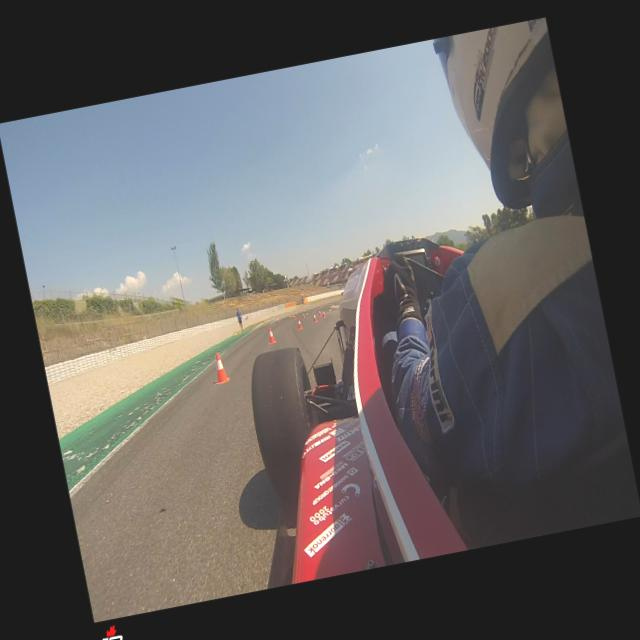orange_cone: (210, 352, 230, 385), (266, 327, 276, 344), (296, 318, 304, 330), (312, 312, 318, 322), (322, 310, 326, 318), (318, 310, 322, 316), (302, 312, 306, 318)
yellow_cone: (328, 306, 332, 312), (306, 311, 308, 316)
